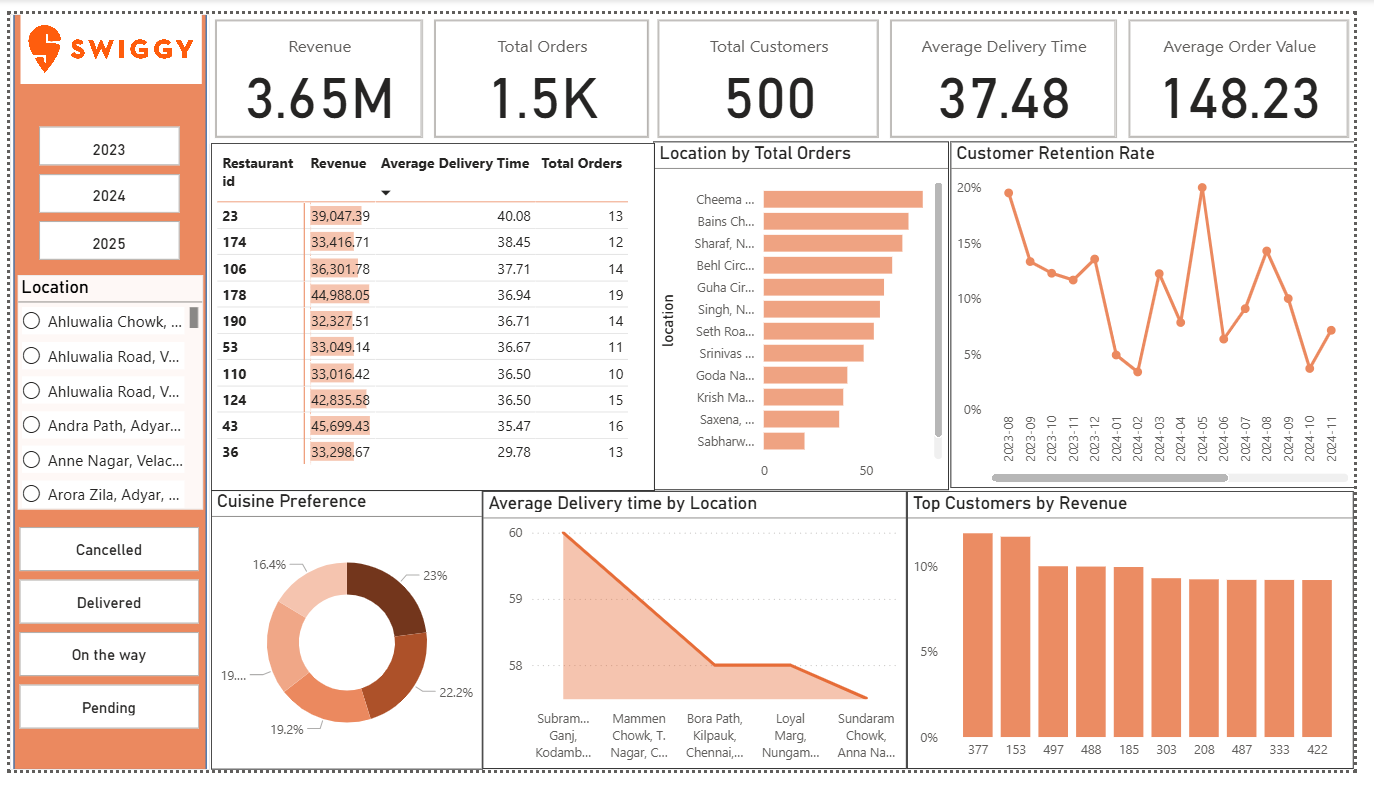

This screenshot's page, from the dashboard's own definition file:
{"tool":"powerbi","page":{"name":"Page 1","canvas":[1280,720],"ordinal":0},"visuals":[{"type":"shape","box":[0,0,190,720],"z":0},{"type":"cardVisual","fields":{"Data":["Sum(orders.total_amount)"]},"box":[190,0,208.3,123.3],"z":1000},{"type":"cardVisual","fields":{"Data":["CountNonNull(orders.order_id)"]},"box":[398.3,0,215,123.3],"z":2000},{"type":"cardVisual","fields":{"Data":["CountNonNull(customers.customer_id)"]},"box":[611.7,0,221.7,123.3],"z":3000},{"type":"cardVisual","fields":{"Data":["Avg(deliveries.delivery_time)"]},"box":[833.3,0,226.7,123.3],"z":4000},{"type":"cardVisual","fields":{"Data":["customers.AOV"]},"box":[1060,0,220,123.3],"z":5000},{"type":"columnChart","title":"Top Customers by Revenue","fields":{"Y":["Sum(orders.total_amount)"],"Category":["customers.customer_id"]},"box":[854,454.3,425.5,265],"z":6000},{"type":"areaChart","title":"Average Delivery time by Location","fields":{"Category":["customers.location"],"Y":["Avg(deliveries.delivery_time)"]},"box":[449.7,454.3,404.3,265],"z":7000},{"type":"donutChart","title":"Cuisine Preference","fields":{"Category":["customers.preferred_cuisine"],"Y":["Count(customers.customer_id)"]},"box":[190.8,452.7,258.9,266.5],"z":8000},{"type":"clusteredBarChart","title":"Location by Total Orders","fields":{"Y":["select","Sum(customers.total_orders)"],"Category":["customers.location"]},"box":[613.4,122.1,281.3,332.1],"z":9000},{"type":"image","box":[10.6,0,172.6,66.6],"z":10000},{"type":"listSlicer","title":"Location","fields":{"Values":["customers.location"]},"box":[6.7,248.3,176.7,223.3],"z":11000},{"type":"advancedSlicerVisual","fields":{"Values":["deliveries.delivery_status"]},"box":[6.1,489.1,177.2,192.3],"z":12000},{"type":"pivotTable","fields":{"Rows":["restaurants.restaurant_id"],"Values":["Sum(orders.total_amount)","Avg(deliveries.delivery_time)","CountNonNull(orders.order_id)"]},"box":[190.8,122.7,422.5,331.6],"z":13000},{"type":"lineChart","title":"Customer Retention Rate ","fields":{"Y":["customers.Customer Retention Rate"],"Category":["orders.Month-Year"]},"box":[895,121.7,385,330],"z":14000},{"type":"advancedSlicerVisual","fields":{"Values":["orders.order_date.Variation.Date Hierarchy.Year"]},"box":[24.2,107.5,140.8,128.7],"z":15000}]}

Visuals, with their boxes in screenshot pixels (x1, y1, x2, y2), scaled from the page's 1280x720 canvas onto the 1374x787 screenshot:
shape: select_region(0, 0, 204, 786)
cardVisual - Sum(orders.total_amount): select_region(204, 0, 428, 135)
cardVisual - CountNonNull(orders.order_id): select_region(428, 0, 658, 135)
cardVisual - CountNonNull(customers.customer_id): select_region(657, 0, 895, 135)
cardVisual - Avg(deliveries.delivery_time): select_region(894, 0, 1138, 135)
cardVisual - customers.AOV: select_region(1138, 0, 1373, 135)
"Top Customers by Revenue" columnChart: select_region(917, 497, 1373, 786)
"Average Delivery time by Location" areaChart: select_region(483, 497, 917, 786)
"Cuisine Preference" donutChart: select_region(205, 495, 483, 786)
"Location by Total Orders" clusteredBarChart: select_region(658, 133, 960, 496)
image: select_region(11, 0, 197, 73)
"Location" listSlicer: select_region(7, 271, 197, 515)
advancedSlicerVisual - deliveries.delivery_status: select_region(7, 535, 197, 745)
pivotTable - restaurants.restaurant_id x Sum(orders.total_amount): select_region(205, 134, 658, 497)
"Customer Retention Rate " lineChart: select_region(961, 133, 1373, 494)
advancedSlicerVisual - orders.order_date.Variation.Date Hierarchy.Year: select_region(26, 118, 177, 258)
